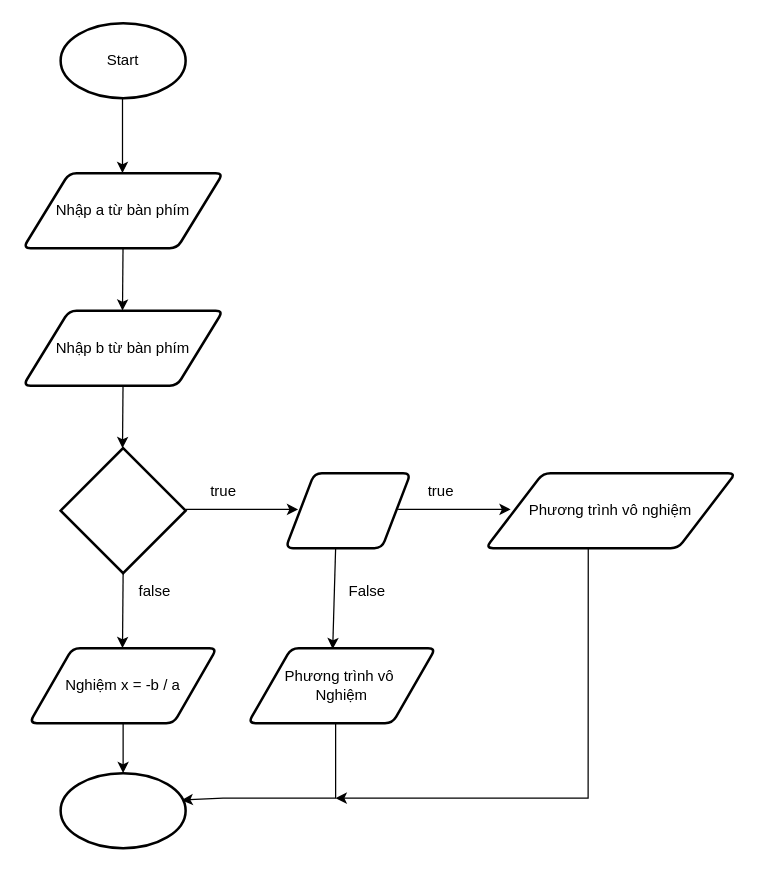
Some shapes in this 758 by 870 pixel diagram are drawn without their labels. The shapes that lost their labels are listed below. From the top down, each one's box as (x1, y1, x2, y2) in pixels, then its label:
(59, 446, 186, 574): a = 0 ?
(284, 471, 411, 549): b = 0?
(59, 771, 186, 849): END
